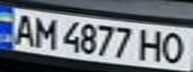4: (57, 18, 81, 53)
7: (112, 24, 139, 60), (93, 23, 115, 57)
8: (78, 20, 100, 55)
A: (9, 11, 39, 46)
H: (136, 27, 166, 63)
M: (30, 15, 60, 49)
O: (157, 30, 190, 65)
